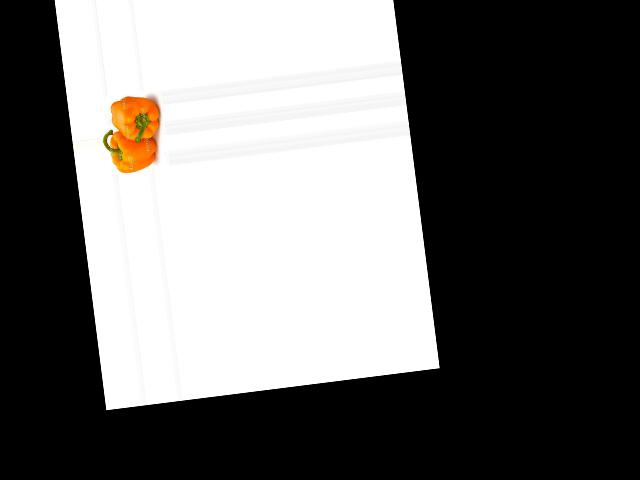bell_pepper: (103, 122, 159, 176)
